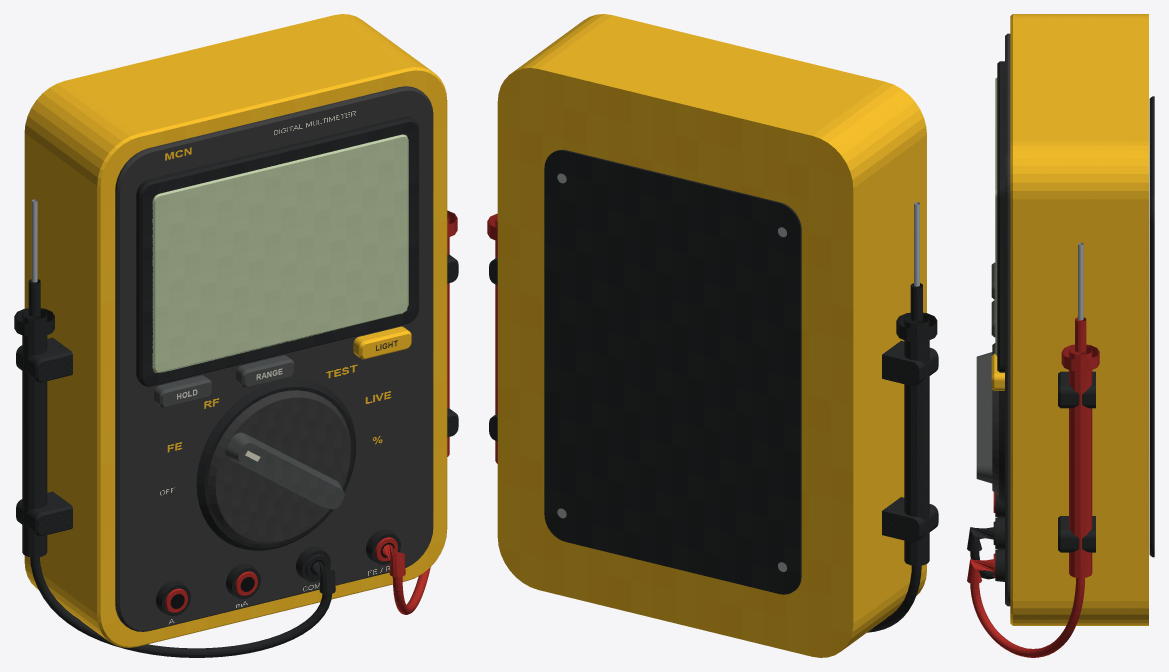
Rendered from technician_tester.obj.
3 views of the same model, side by side, from view 1: azimuth 30°, elevation 25°; view 2: azimuth 150°, elevation 25°; view 3: azimuth 270°, elevation 25° (orthographic). The views are drawn at different scales.
Parts seen in each view (by area): view 1: object 14, rubber_probe_handle, rubber_lead, rubber_probe_tip, rubber_clip_4.3, rubber_clip_8.5, red_lead; view 2: object 14, rear_cover, rubber_probe_handle, rubber_probe_tip, rubber_clip_4.3, rubber_clip_8.5, rubber_lead; view 3: object 14, red_probe_handle, rear_cover, red_lead, red_probe_tip, red_clip_8.5, red_clip_4.3, rubber_plug, red_plug.
Part boxes in pixels (box(x1,y1,x2,y2)): object 14: box(24, 14, 447, 647); rubber_probe_handle: box(22, 309, 47, 557); rubber_lead: box(30, 557, 331, 657); rubber_probe_tip: box(14, 199, 54, 337); rubber_clip_4.3: box(16, 491, 72, 536); rubber_clip_8.5: box(16, 337, 72, 382); red_lead: box(392, 567, 430, 614); object 14: box(497, 14, 926, 657); rear_cover: box(544, 149, 801, 594); rubber_probe_handle: box(904, 314, 929, 565); rubber_probe_tip: box(896, 202, 937, 342); rubber_clip_4.3: box(882, 497, 938, 542); rubber_clip_8.5: box(882, 340, 938, 386); rubber_lead: box(867, 565, 921, 632); object 14: box(976, 14, 1148, 625); red_probe_handle: box(1069, 346, 1092, 578); rear_cover: box(1149, 96, 1154, 557); red_lead: box(970, 578, 1084, 657); red_probe_tip: box(1061, 242, 1099, 371); red_clip_8.5: box(1058, 371, 1095, 408); red_clip_4.3: box(1058, 516, 1095, 552); rubber_plug: box(967, 527, 993, 551); red_plug: box(967, 559, 993, 583).
Size of the model in its own units: 0.7812 by 0.9267 by 0.31.
